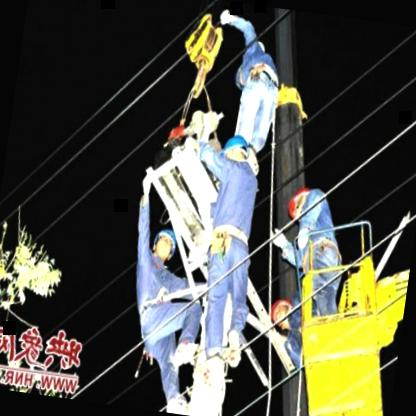helmet: (218, 128, 256, 170), (264, 290, 297, 330), (284, 181, 313, 224), (150, 224, 180, 261)
